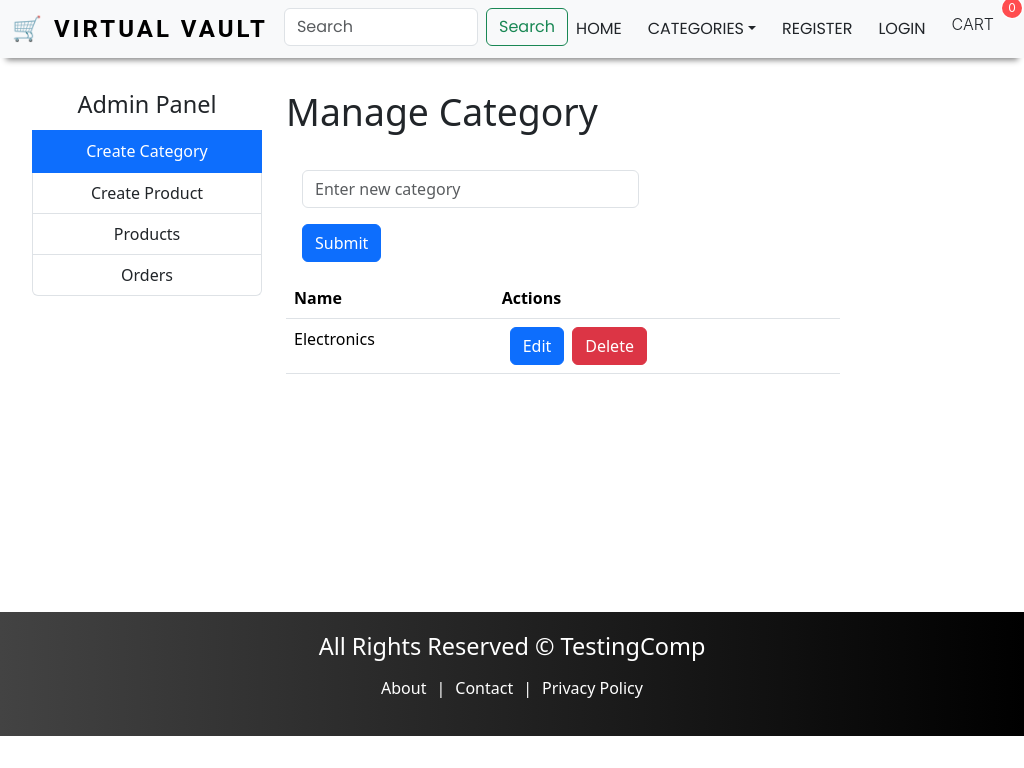
Test case: Admin create category integration with other components › able to update category
The image size is (1024, 768).
expect the cell "Electronics" is shown: met, box [286,318,494,373]
Click the button "Edit": (537, 346) [510,326,564,364]
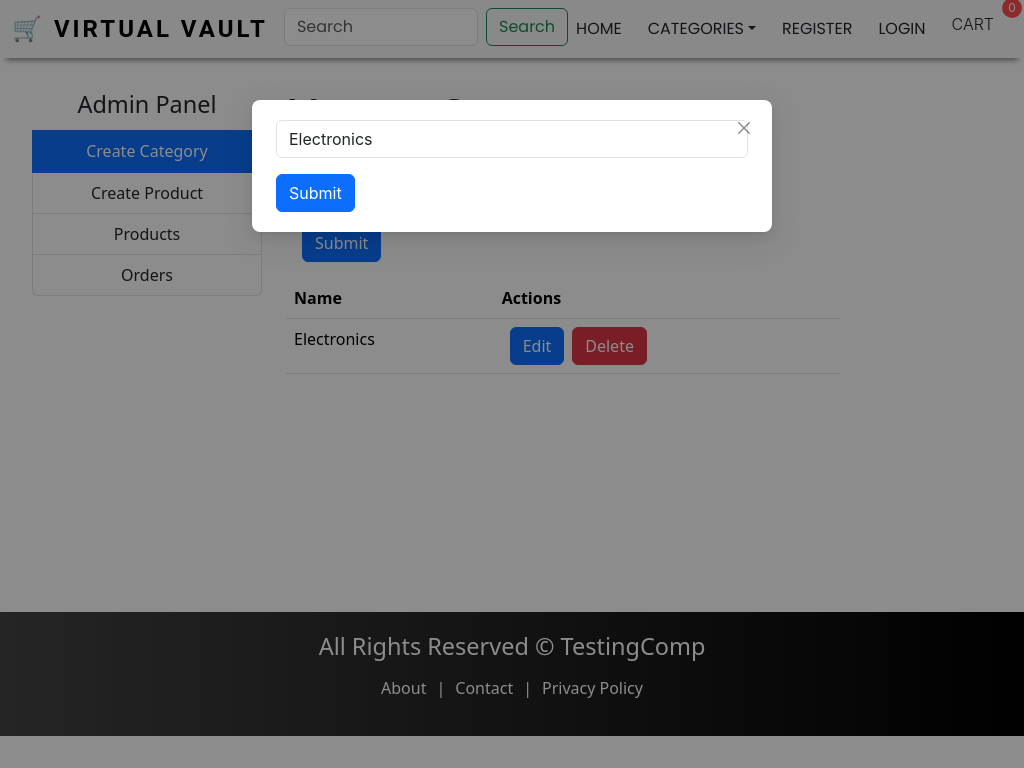
Replace the text in the field with placeholder "Enter new category" with "Plushie": (512, 139) [276,120,748,158]
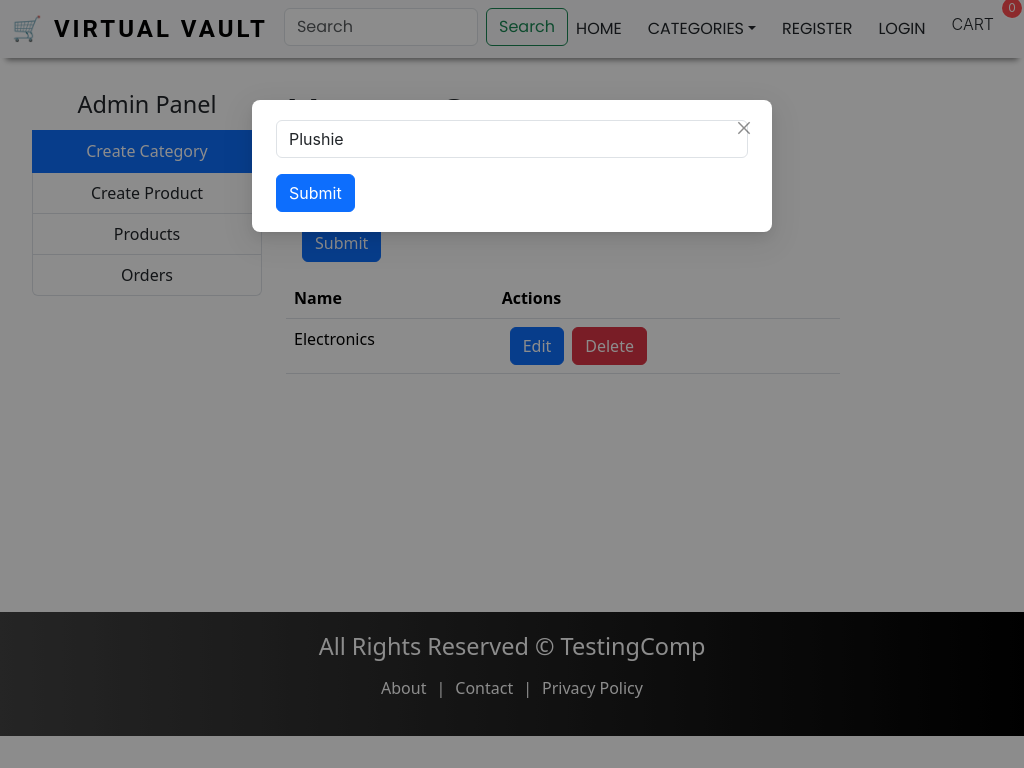
Click the button "Submit": (315, 193) [276,174,355,212]
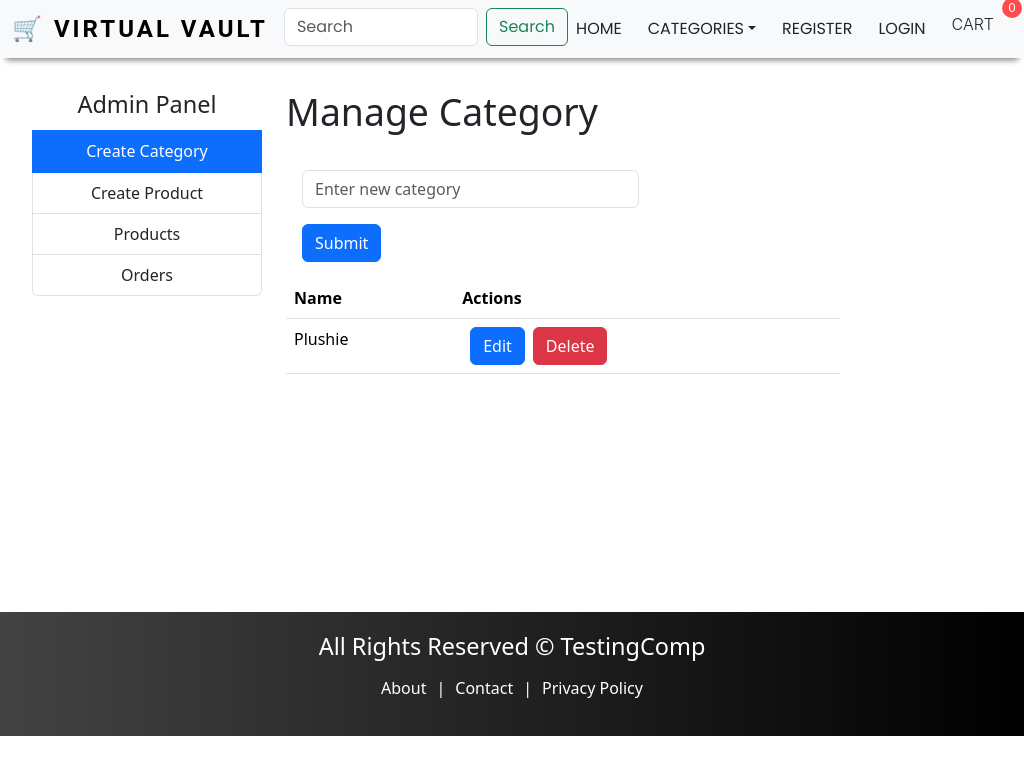
expect the cell "Electronics" is gone: met
expect the cell "Plushie" is shown: met, box [286,318,454,373]
